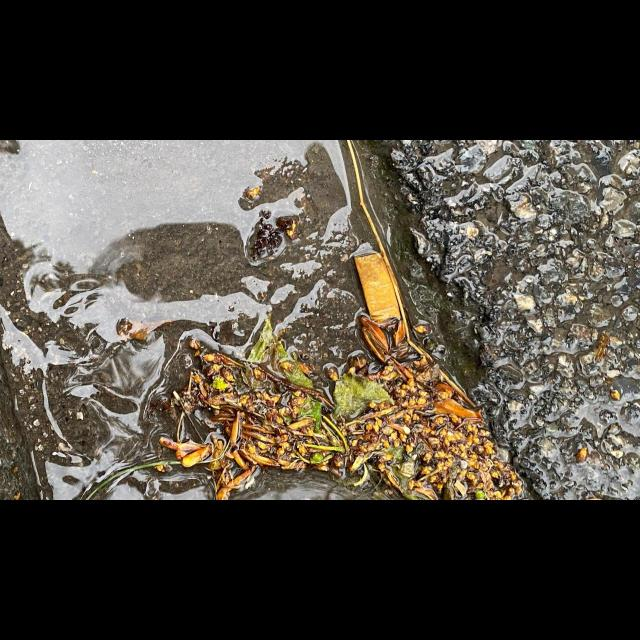cigarette: (353, 251, 402, 328)
